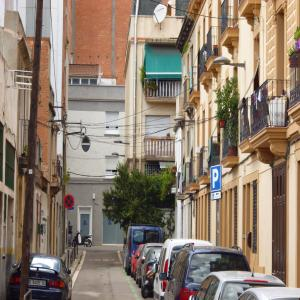Vehicle-registration-plate: (29, 281, 47, 288)
